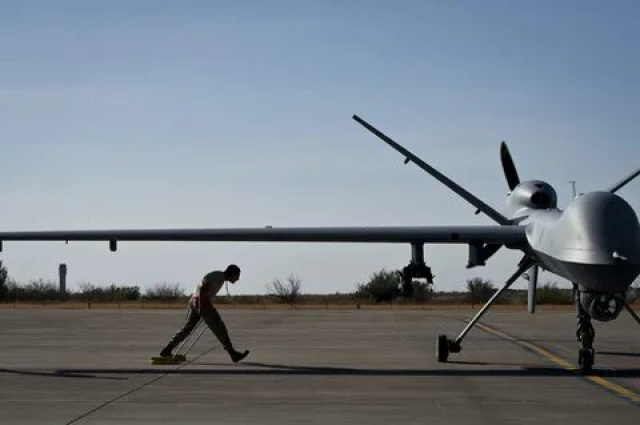military drone: (0, 113, 640, 371)
